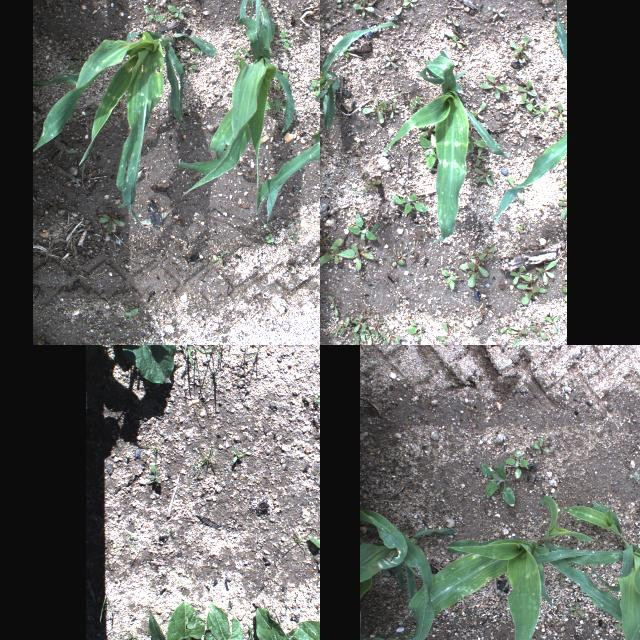crop: (33, 30, 217, 238), (407, 495, 621, 640), (167, 0, 294, 231), (384, 51, 516, 243), (320, 21, 397, 212), (360, 506, 458, 640), (557, 499, 640, 640), (254, 59, 320, 222), (495, 132, 567, 224), (147, 600, 218, 640), (114, 345, 175, 384), (206, 603, 264, 640), (256, 607, 320, 640), (555, 0, 565, 60), (360, 631, 414, 640)
weed: (478, 461, 518, 512), (459, 248, 496, 290), (320, 235, 354, 271), (346, 213, 380, 247), (361, 98, 399, 128), (419, 132, 446, 174), (476, 70, 509, 102), (180, 345, 212, 378), (193, 444, 227, 474), (386, 191, 424, 217), (502, 446, 530, 480), (518, 276, 548, 306), (505, 32, 531, 66), (515, 78, 537, 114), (347, 244, 375, 270), (97, 213, 125, 233), (378, 323, 403, 345), (532, 434, 552, 460), (351, 0, 374, 22), (257, 98, 291, 112), (378, 54, 398, 76), (509, 264, 529, 286), (322, 295, 340, 319), (442, 269, 458, 295), (541, 261, 557, 287), (473, 138, 489, 164), (361, 176, 384, 194), (393, 0, 417, 17), (434, 322, 452, 344), (390, 250, 408, 272), (473, 170, 495, 188), (178, 62, 200, 78), (544, 314, 560, 336), (566, 604, 588, 620), (110, 630, 145, 640), (143, 5, 163, 22), (448, 36, 469, 52), (487, 4, 508, 20), (556, 192, 566, 222), (530, 102, 548, 118), (350, 314, 366, 332), (408, 320, 422, 340), (514, 216, 528, 236), (309, 531, 320, 554), (167, 5, 186, 18), (442, 15, 461, 28), (308, 79, 320, 99), (210, 250, 227, 264), (530, 325, 546, 339), (280, 28, 290, 50), (277, 71, 289, 89), (150, 464, 162, 482), (57, 146, 77, 156), (122, 308, 138, 320), (473, 104, 483, 122), (233, 446, 243, 464), (348, 334, 363, 345), (502, 324, 518, 334), (341, 316, 351, 332), (555, 106, 563, 124), (366, 328, 374, 344), (526, 316, 536, 328), (362, 334, 371, 345), (265, 234, 275, 242), (242, 48, 250, 58), (508, 330, 528, 334), (332, 327, 340, 337), (234, 48, 240, 61), (289, 233, 297, 241), (562, 286, 566, 300), (320, 234, 327, 241), (320, 242, 323, 255)
